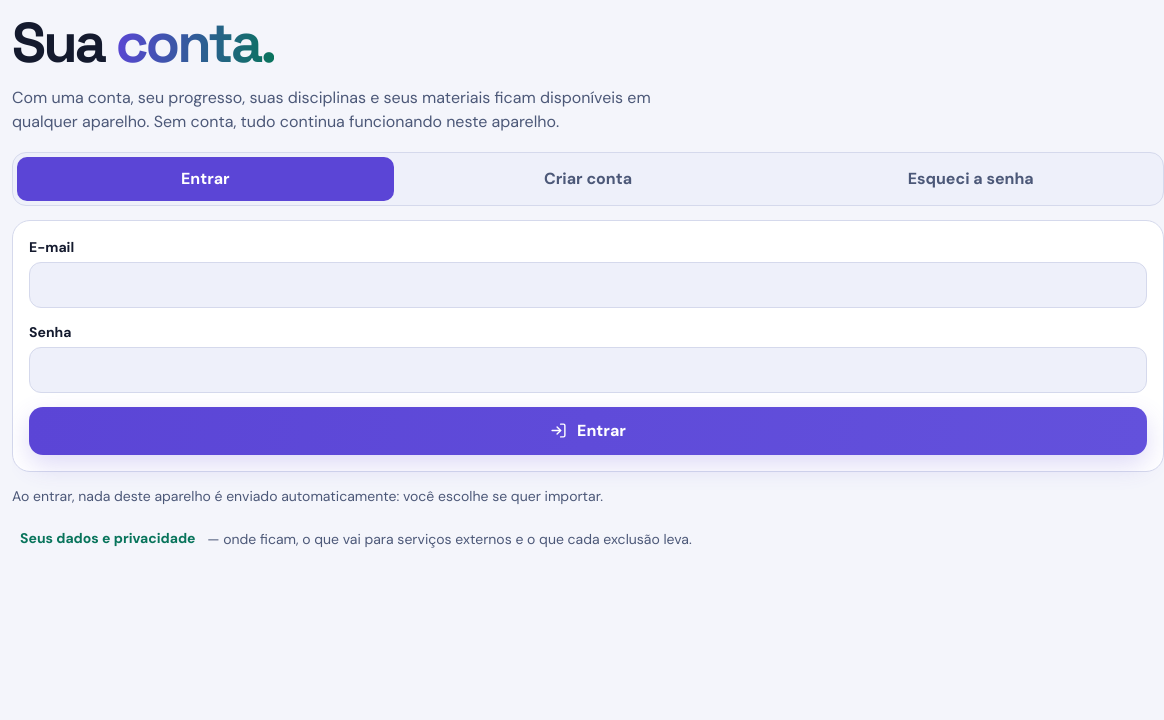
Scenario: tela Conta (conta simulada) › erro de login aparece em português e a senha não é apagada do formulário
The width and height of the screenshot is (1164, 720).
Type "a@b.com" into the field labelled "E-mail" at (588, 285), box [29,262,1147,308]
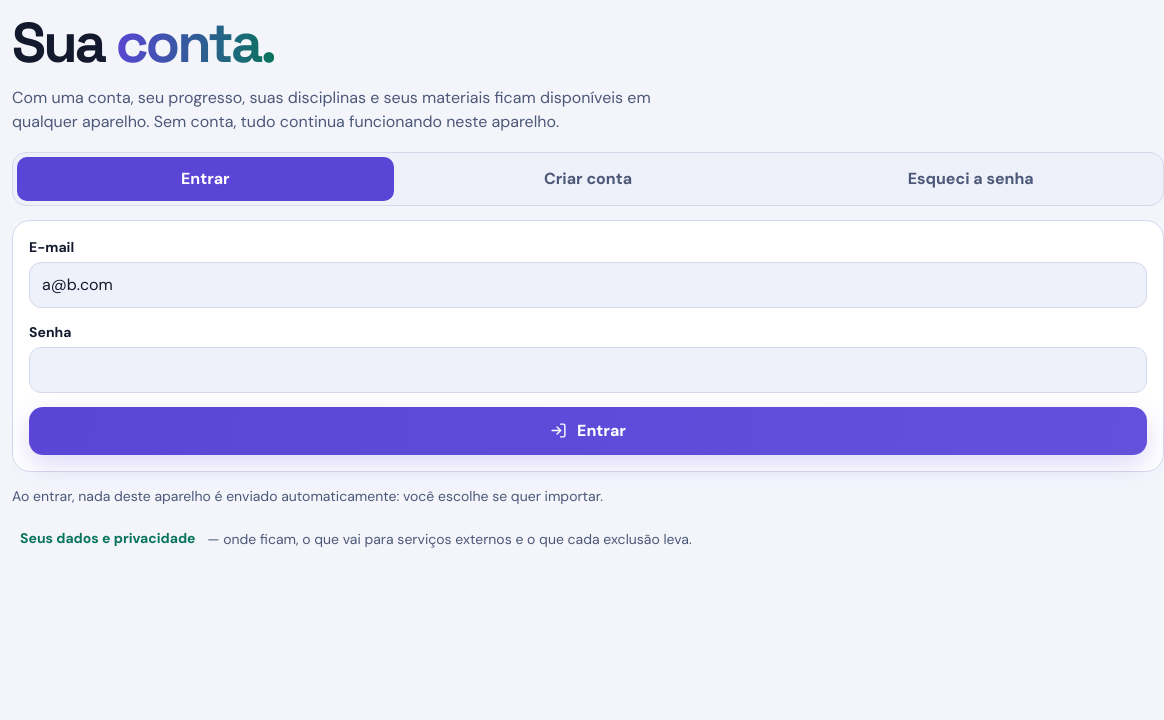
Type "senhaerrada" into the password field labelled "Senha" at (588, 370), box [29,347,1147,393]
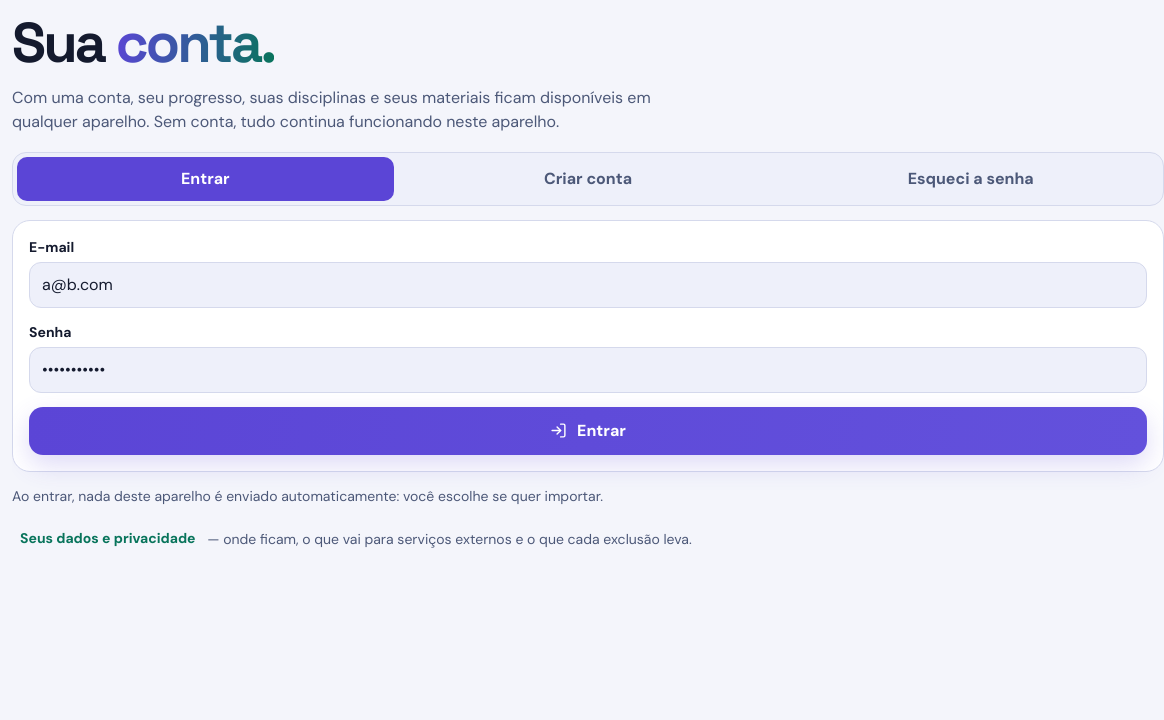
Click the button "Entrar" below "E-mail" at (588, 431), box [29,407,1147,455]
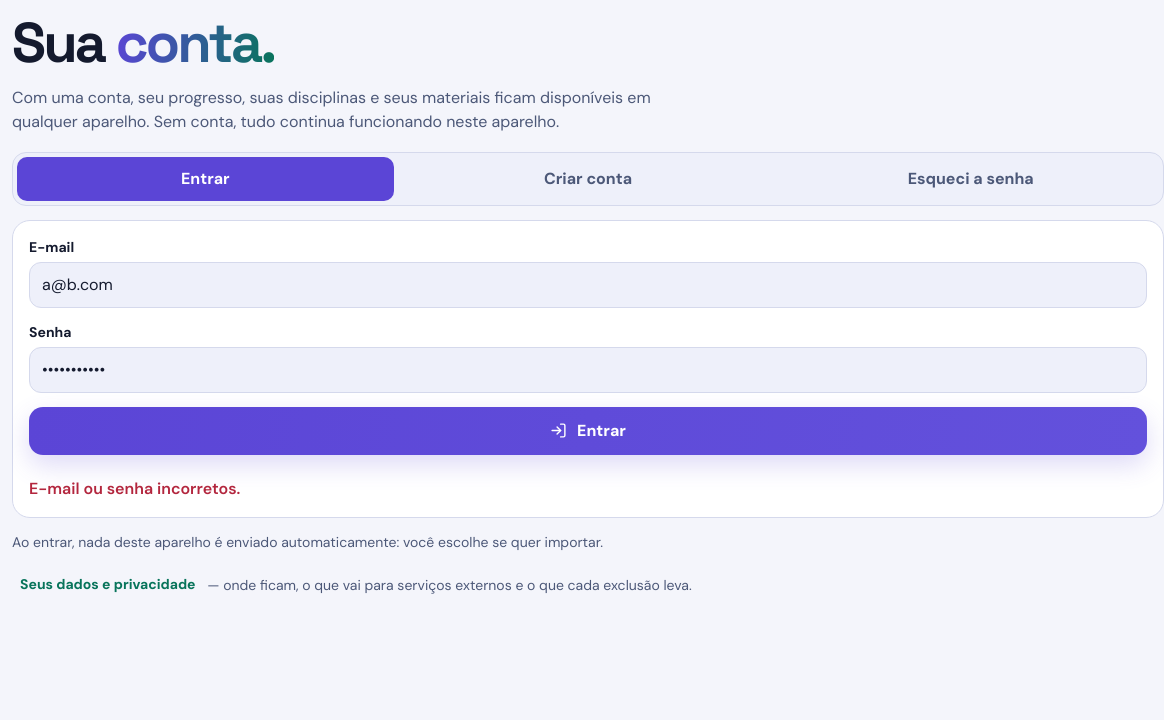
expect the message reads "E-mail ou senha incorretos.": met, box [29,478,240,499]
